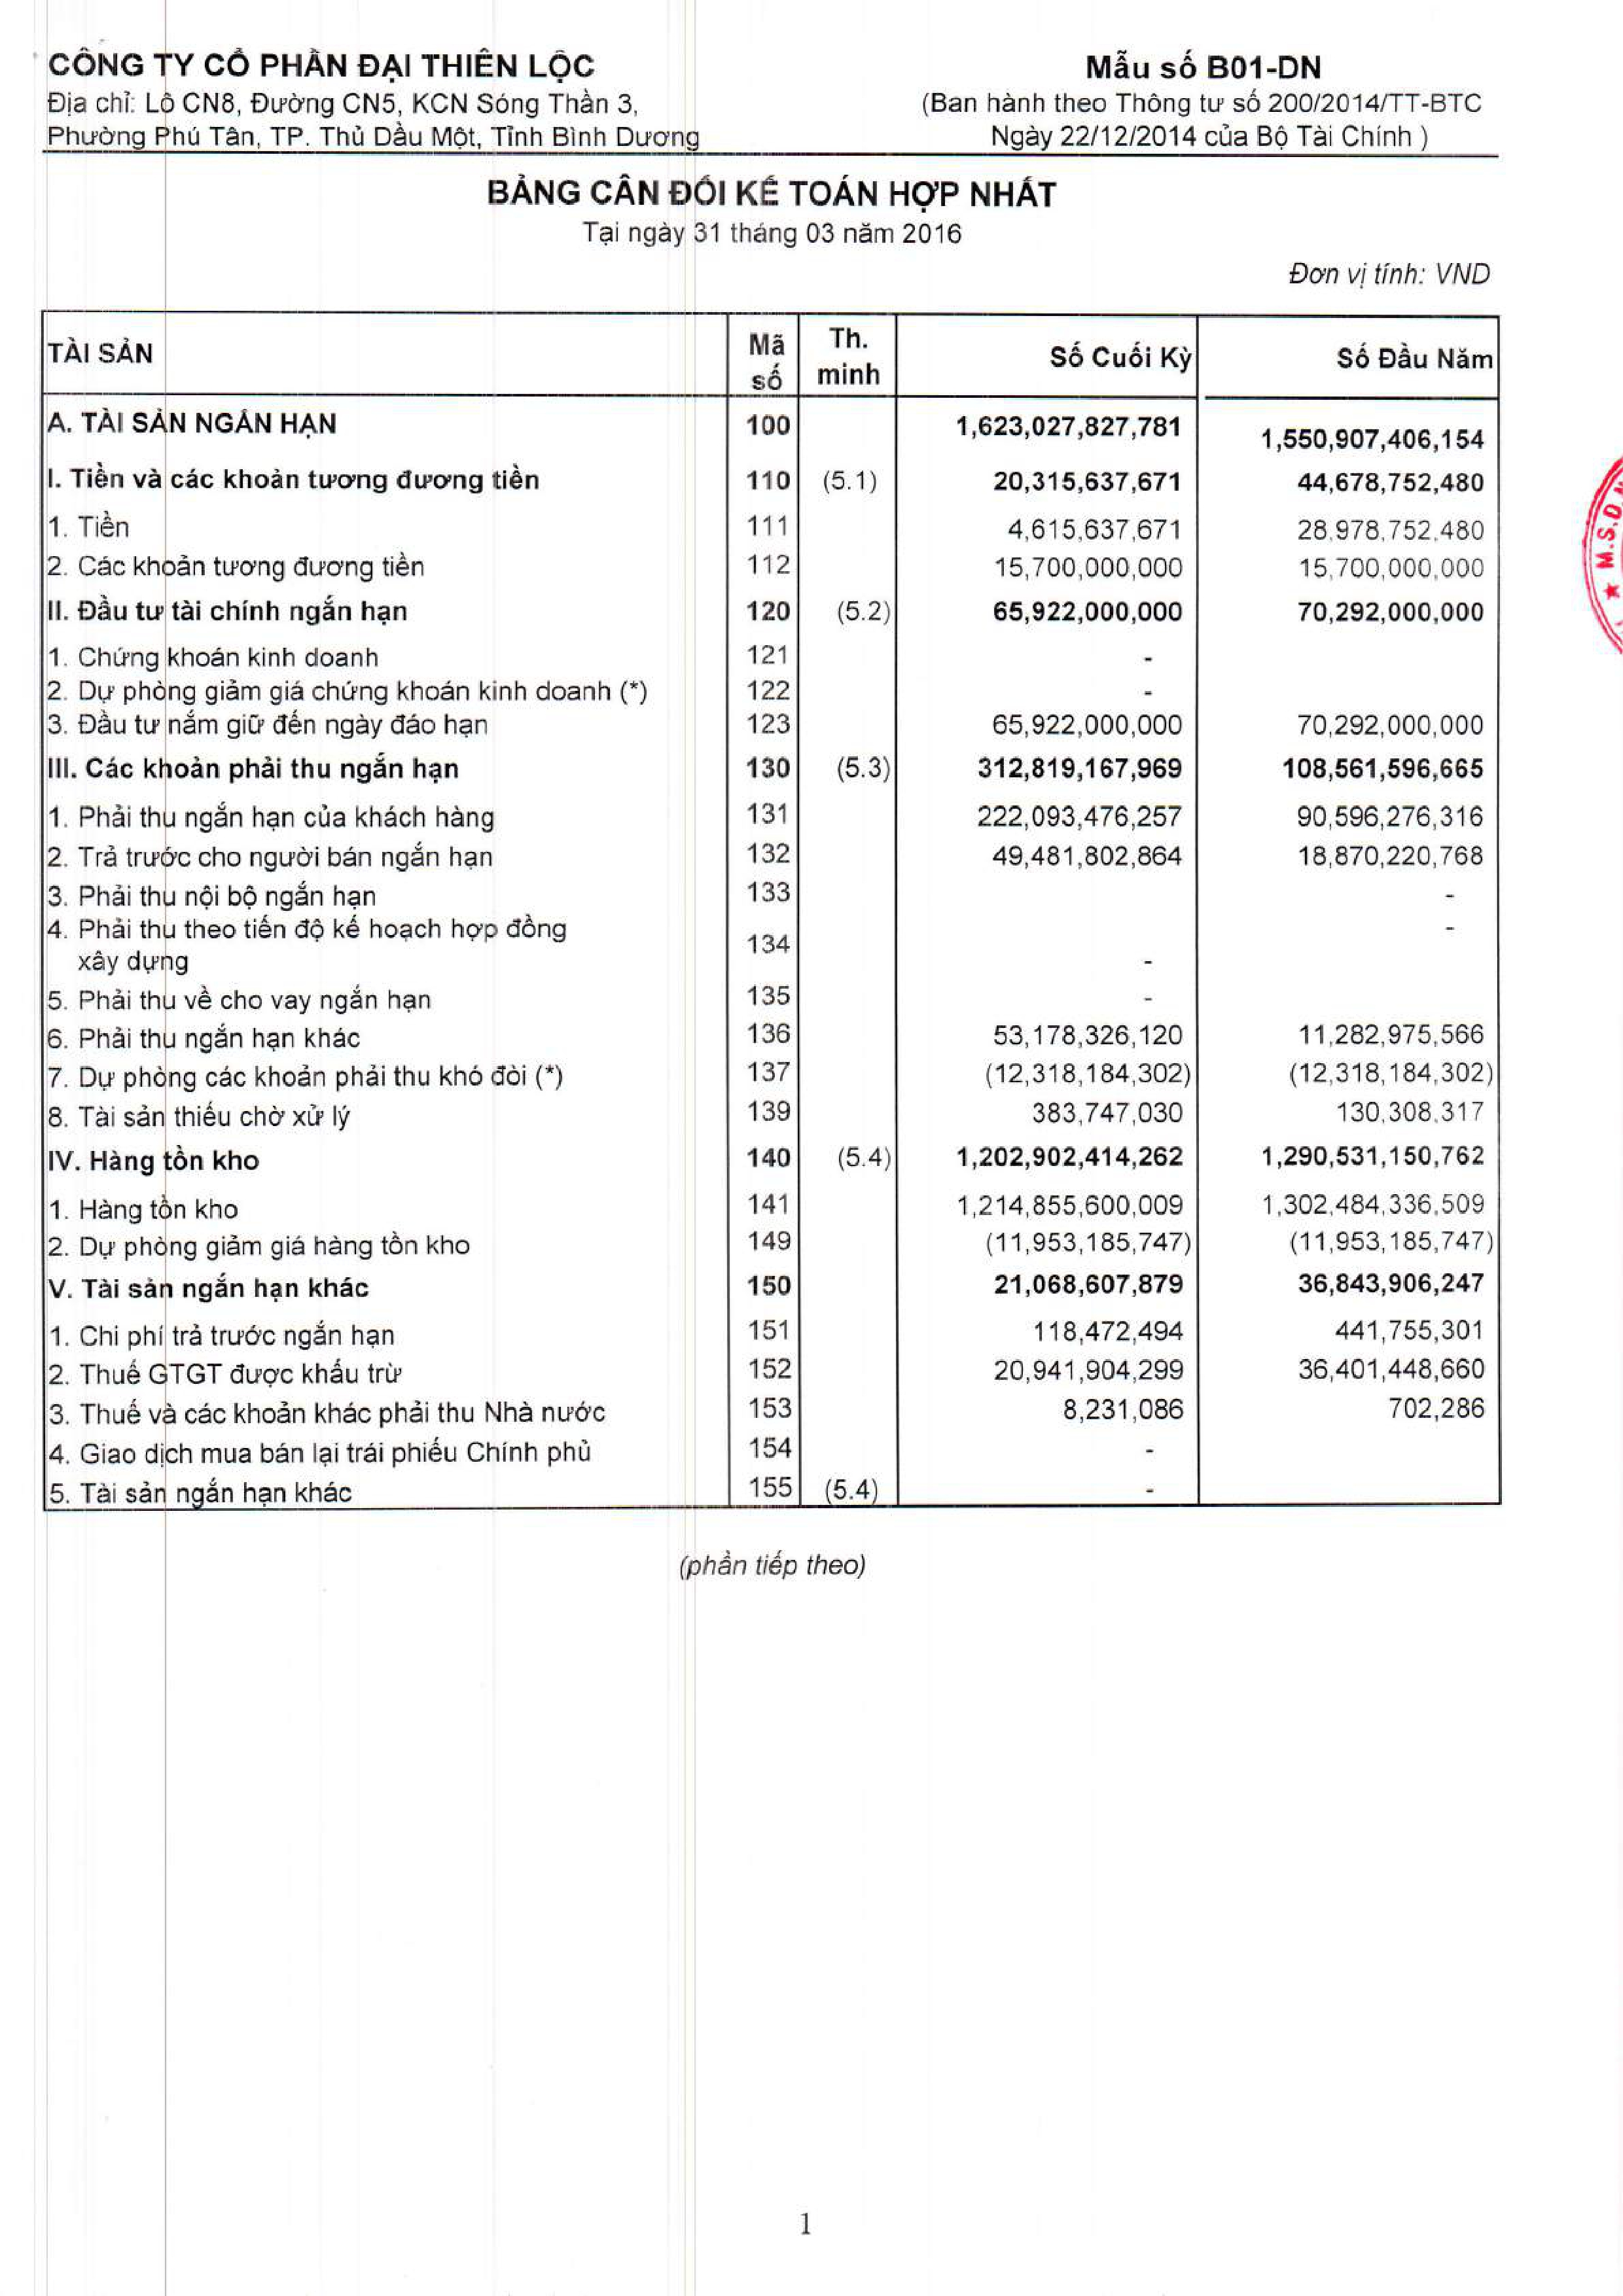table: (23, 295, 1518, 1522)
table column: (42, 295, 666, 1522), (1240, 295, 1498, 1522), (941, 295, 1198, 1522), (819, 295, 903, 1522), (738, 295, 810, 1522)
table column header: (23, 309, 1518, 404)
table row: (23, 908, 1518, 976), (23, 325, 1518, 391), (23, 405, 1518, 448), (23, 793, 1518, 836), (23, 1134, 1518, 1174), (23, 463, 1518, 502), (23, 509, 1518, 548), (23, 978, 1518, 1016), (23, 1094, 1518, 1132), (23, 1181, 1518, 1220), (23, 1264, 1518, 1302), (23, 1313, 1518, 1352), (23, 1388, 1518, 1427), (23, 549, 1518, 586), (23, 588, 1518, 625), (23, 635, 1518, 672), (23, 707, 1518, 743), (23, 836, 1518, 871), (23, 872, 1518, 908), (23, 1018, 1518, 1053), (23, 1058, 1518, 1094), (23, 1223, 1518, 1259), (23, 1429, 1518, 1464), (23, 1466, 1518, 1501), (23, 751, 1518, 785), (23, 1355, 1518, 1388), (23, 674, 1518, 706)
